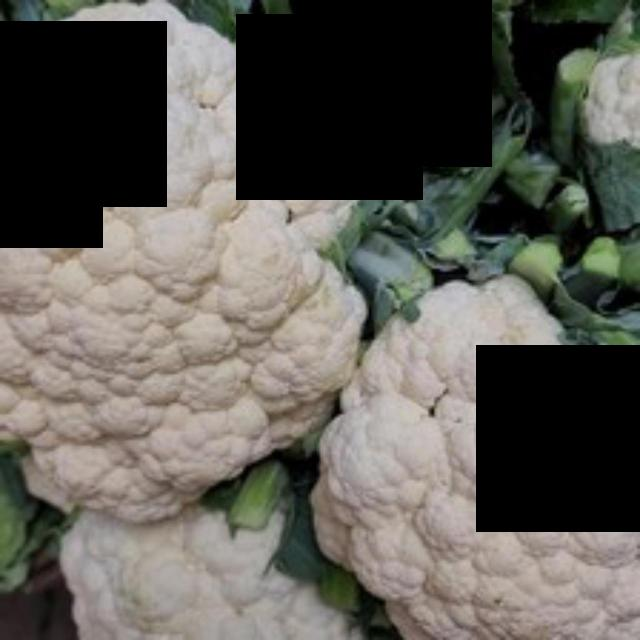cauliflower: (0, 0, 382, 531)
